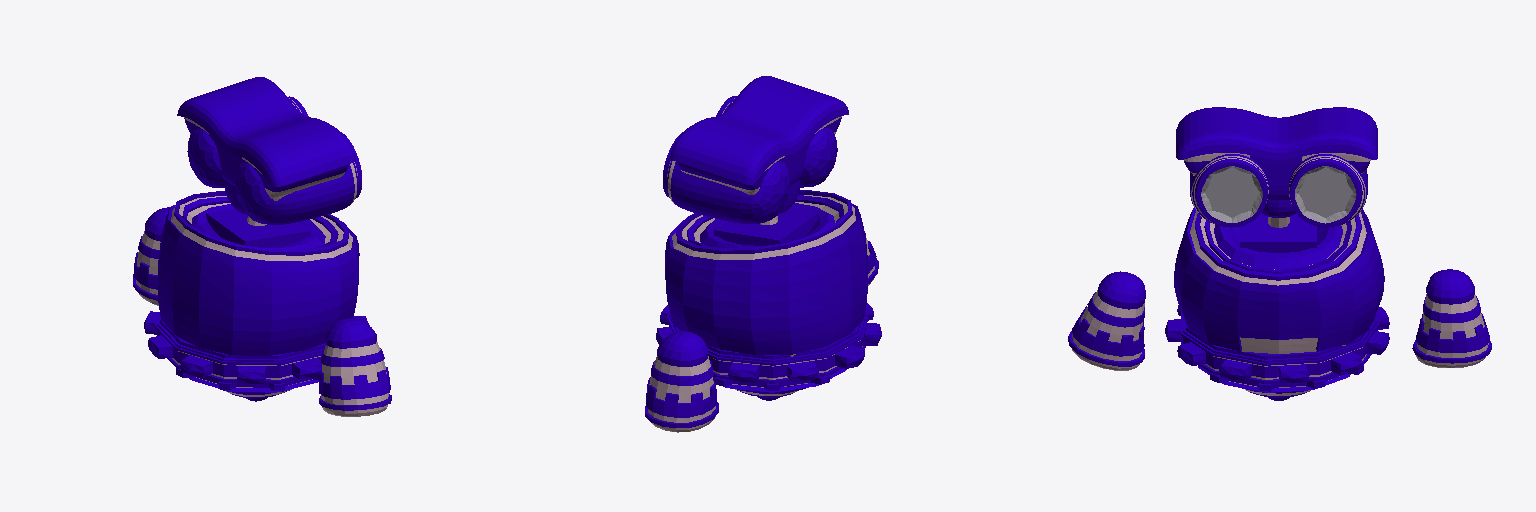
Rendered from RobotRigVioletClair.obj.
3 views of the same model, side by side, from view 1: azimuth 30°, elevation 25°; view 2: azimuth 150°, elevation 25°; view 3: azimuth 270°, elevation 25° (orthographic).
Visible parts, largest first — view 1: Cube.013; view 2: Cube.013; view 3: Cube.013.
Boxes of the visible parts, <box> form: Cube.013: <box>133,77,391,416</box>; Cube.013: <box>645,76,881,432</box>; Cube.013: <box>1068,107,1491,400</box>.
Size of the model in its own units: 3.56 by 4.96 by 6.69.